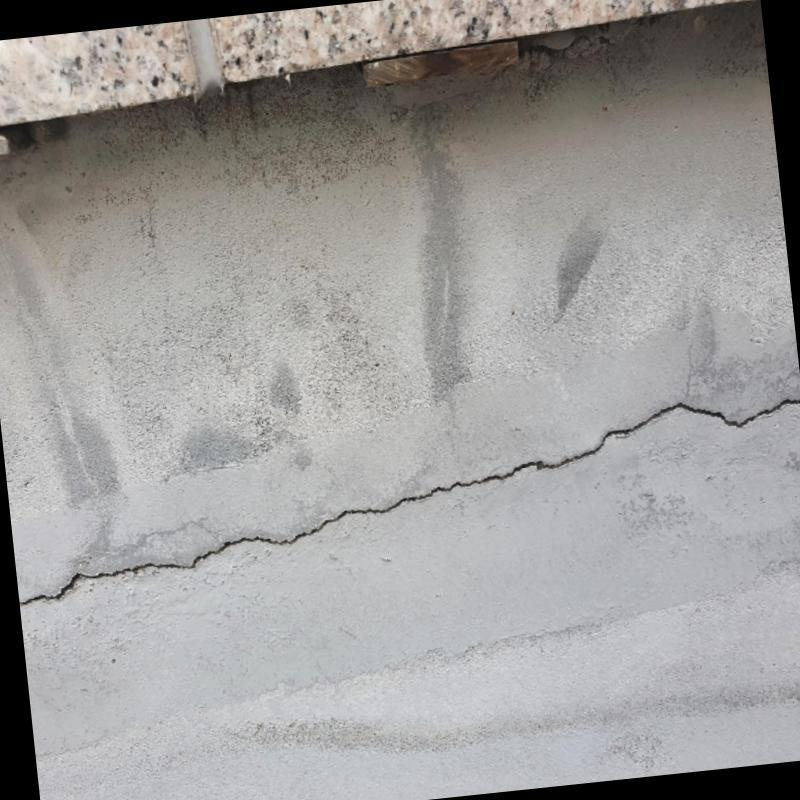pothole: (18, 385, 800, 632)
